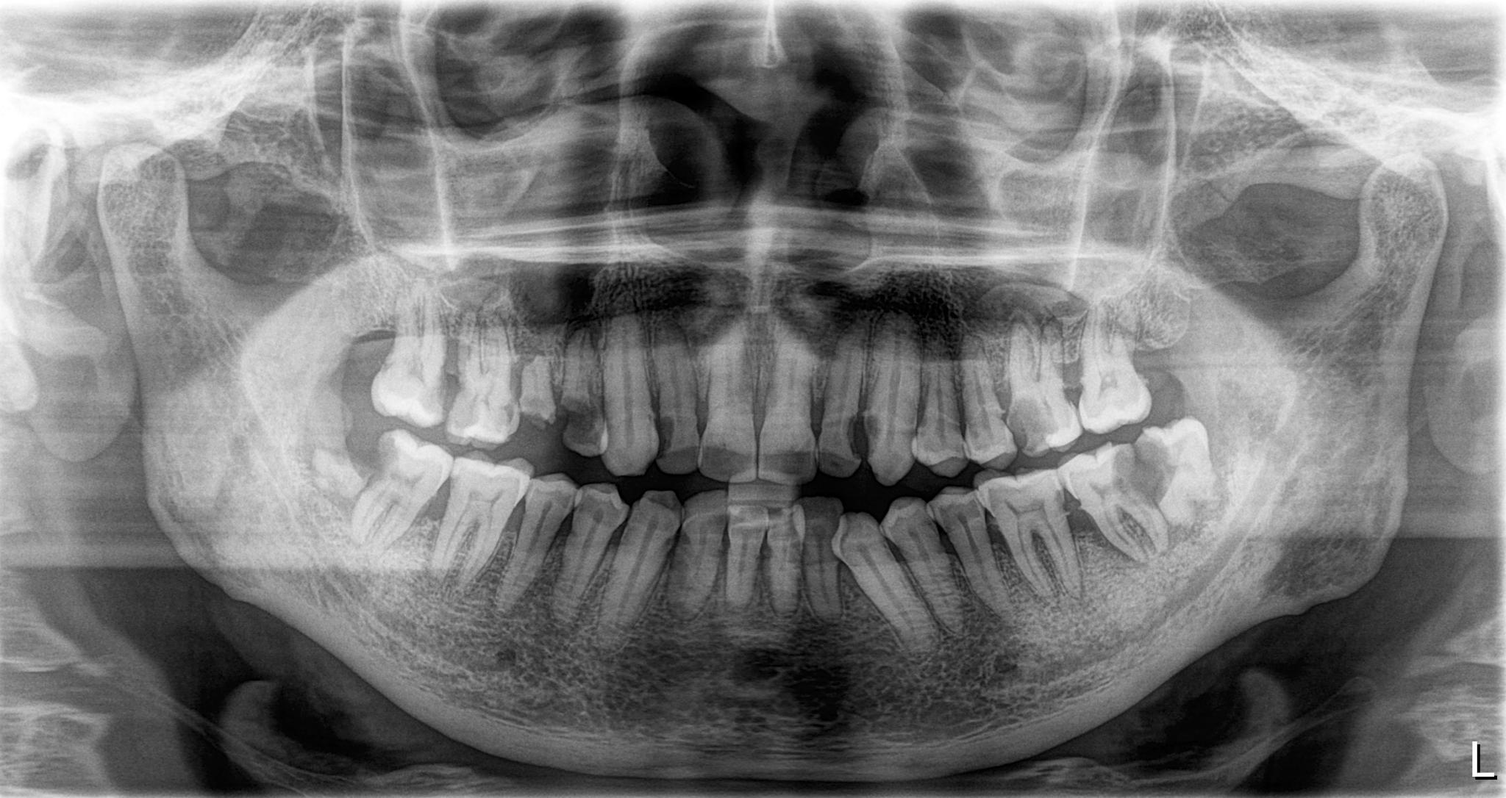Dental Caries: (702, 441, 813, 481), (1110, 450, 1186, 504), (844, 408, 885, 465), (656, 415, 682, 445)
Retained Root: (300, 435, 392, 507), (504, 336, 564, 443), (564, 331, 601, 454)
